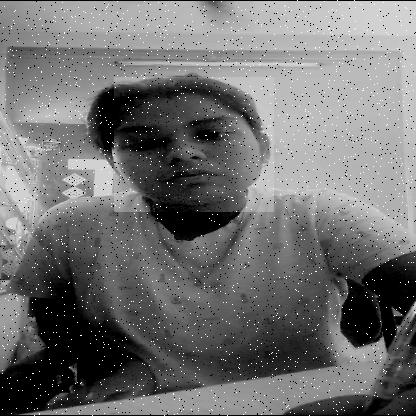Normal: (114, 77, 274, 212)
